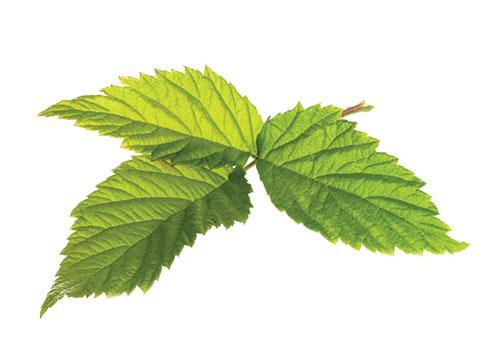Raspberry leaf: (29, 149, 261, 321), (256, 100, 476, 261), (36, 65, 261, 164)
